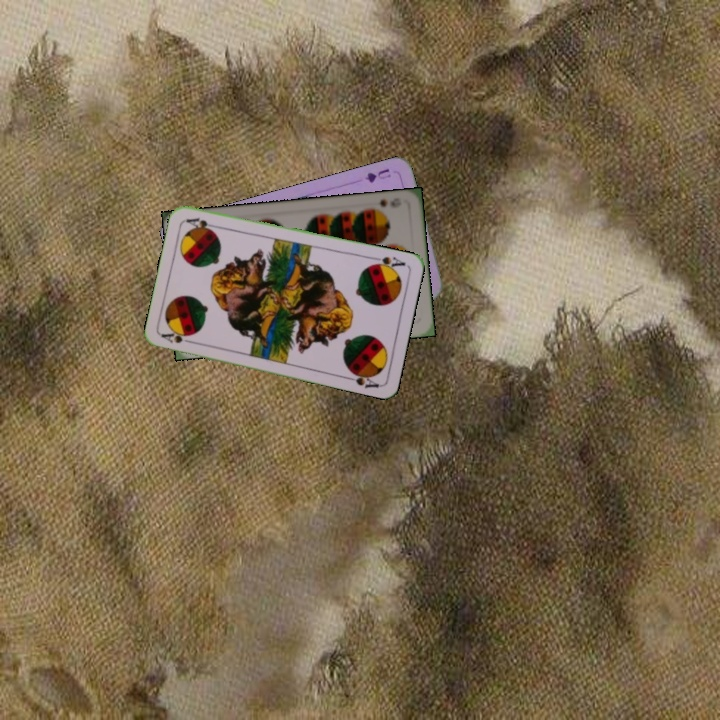GU: (361, 165, 393, 186)
S9: (366, 195, 390, 215)
SA: (367, 252, 408, 273), (158, 328, 198, 347)
